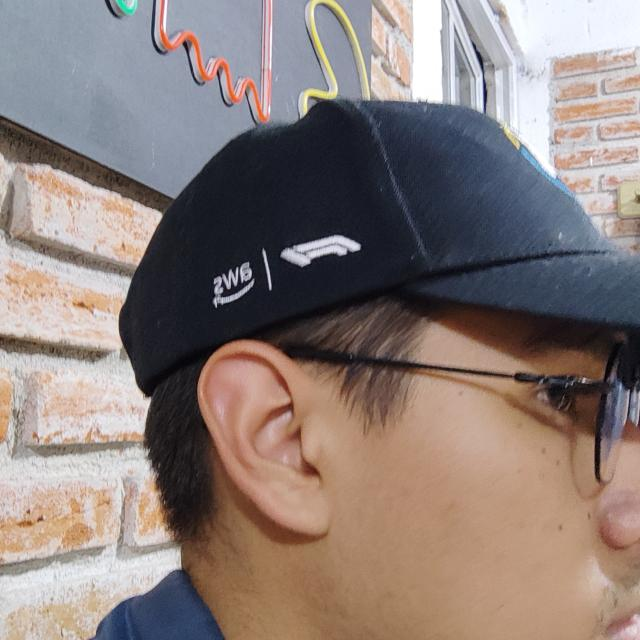ear: (198, 339, 332, 534)
